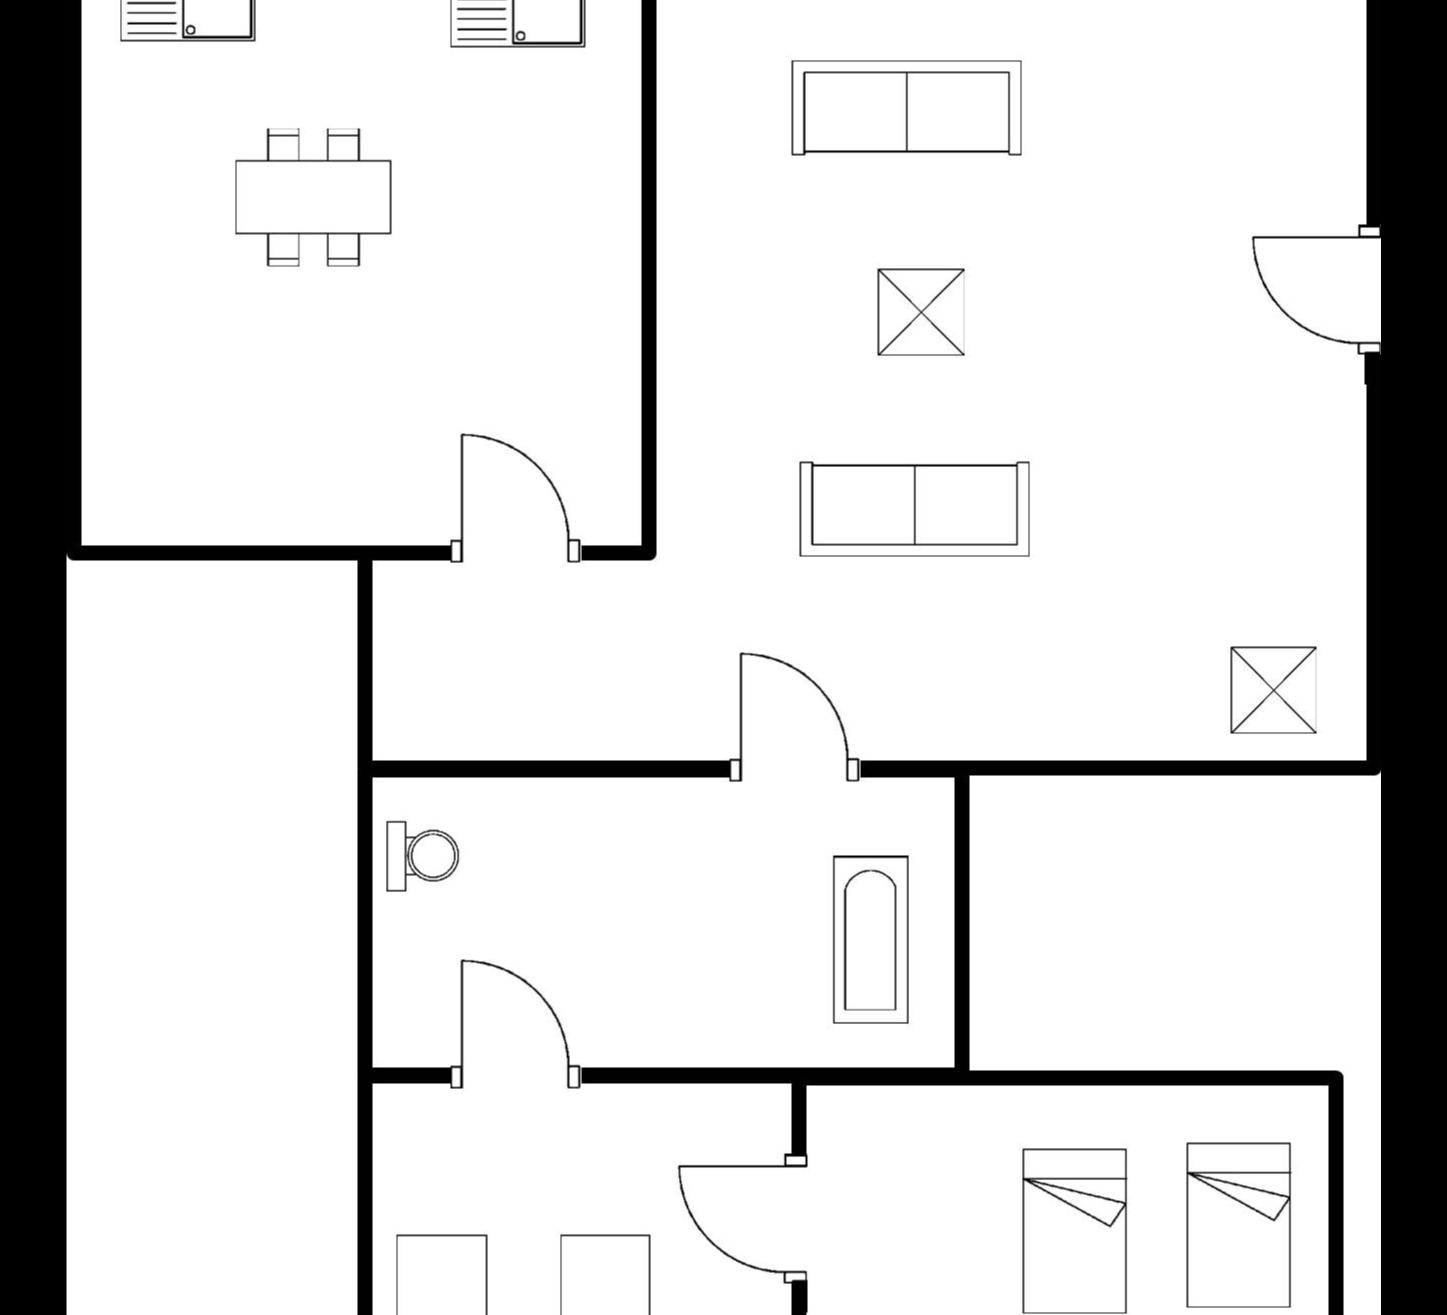bed: (1177, 1127, 1297, 1315), (1013, 1137, 1134, 1315)
dining_table: (223, 117, 398, 274)
sink: (439, 0, 597, 55), (107, 0, 268, 49)
sofa: (776, 45, 1031, 168), (788, 448, 1037, 565)
toilet: (378, 804, 465, 896)
tub: (822, 838, 916, 1028)
